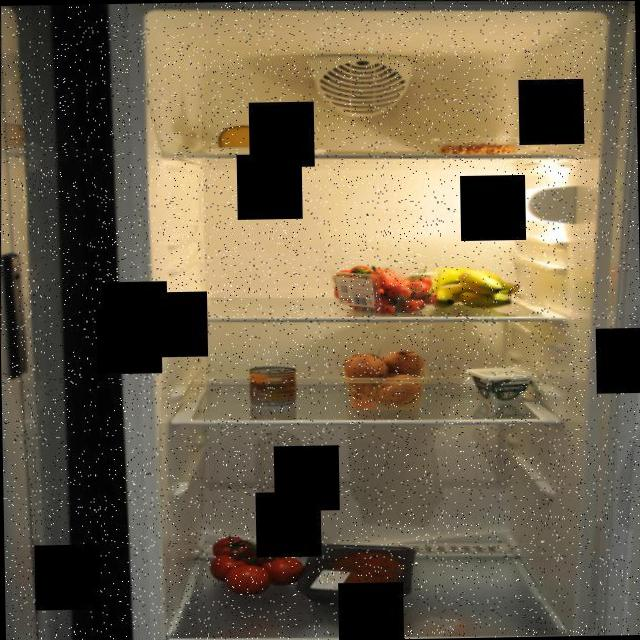Carne vacuno: (323, 550, 403, 594)
Cebolla: (340, 348, 424, 407)
Gambas/Langostinos: (434, 132, 530, 158)
Plátano: (425, 260, 523, 306)
Queso: (208, 119, 306, 150)
Tomate: (203, 528, 309, 592)
